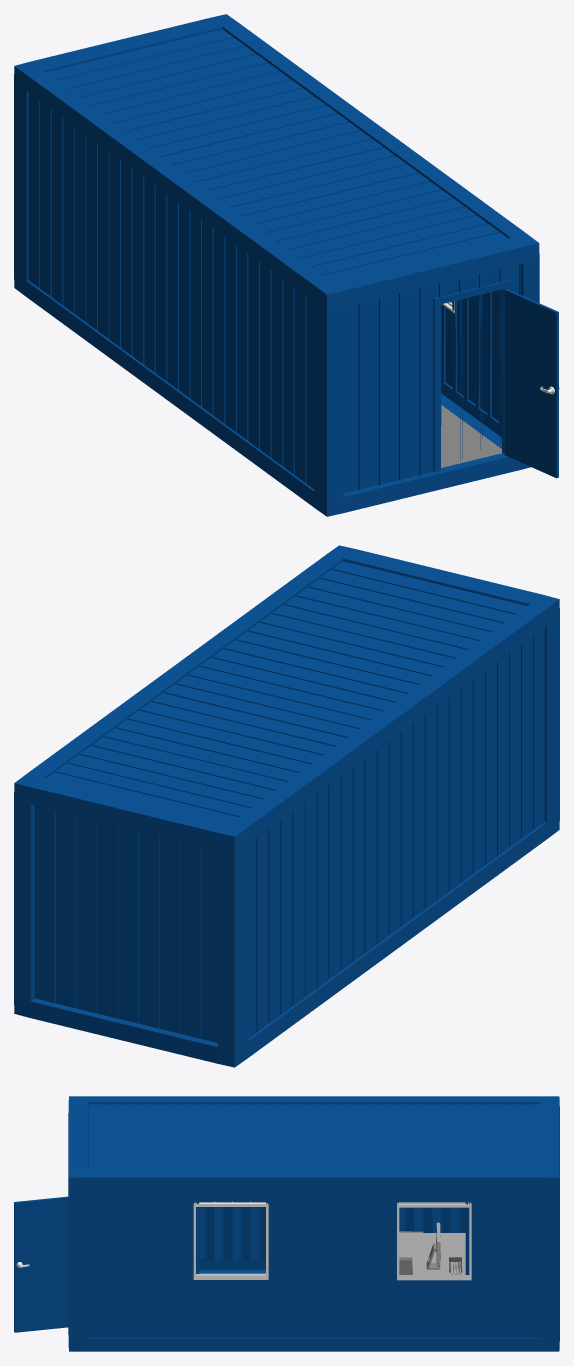
Rendered from ctx4.glb.
3 views of the same model, one above another, from view 1: azimuth 30°, elevation 25°; view 2: azimuth 150°, elevation 25°; view 3: azimuth 270°, elevation 25° (orthographic). The views are drawn at different scales.
Visible parts, largest first — view 1: vorne.002, Dach.001, Gerüst.001, kurz l.001, Door.001, hinten.002, DoorFrame.001, Boden.001; view 2: vorne.002, Dach.001, Gerüst.001, kurz r.001; view 3: hinten.002, Gerüst.001, Dach.001, Door.001, vorne.002, Desk.007, WindowFrame, WindowFrame.001.
Part boxes in pixels (x1,y1,x2,y2): vorne.002: [28, 93, 314, 488]; Dach.001: [45, 29, 507, 281]; Gerüst.001: [14, 14, 539, 516]; kurz l.001: [343, 264, 520, 493]; Door.001: [504, 288, 558, 478]; hinten.002: [441, 289, 501, 425]; DoorFrame.001: [433, 279, 513, 472]; Boden.001: [441, 405, 501, 467]; vorne.002: [248, 627, 544, 1038]; Dach.001: [47, 561, 526, 822]; Gerüst.001: [14, 545, 559, 1067]; kurz r.001: [35, 805, 217, 1042]; hinten.002: [88, 1190, 539, 1338]; Gerüst.001: [68, 1096, 559, 1351]; Dach.001: [88, 1104, 539, 1170]; Door.001: [14, 1196, 68, 1332]; vorne.002: [199, 1201, 465, 1261]; Desk.007: [399, 1233, 465, 1274]; WindowFrame: [397, 1202, 471, 1280]; WindowFrame.001: [193, 1201, 268, 1279].
Bounding box in the file's own units: 2.41 × 2.38 × 6.72.
